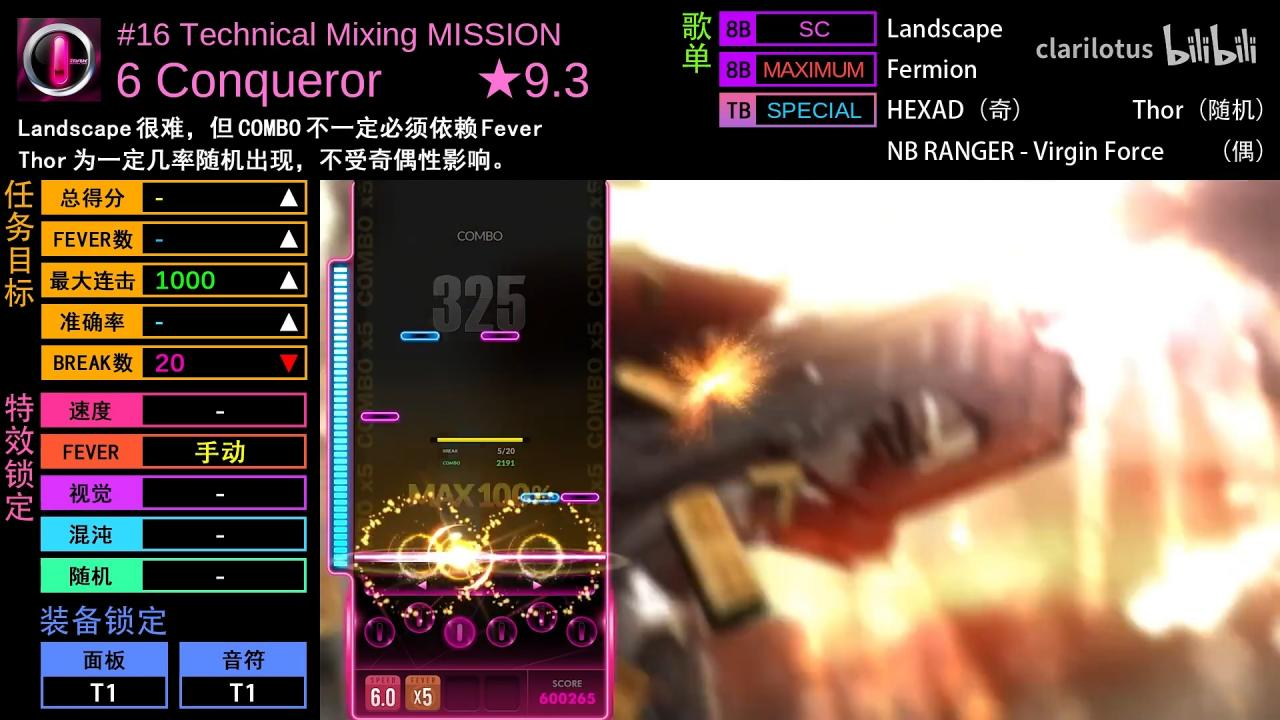note: (399, 330, 442, 342), (360, 411, 400, 423), (480, 330, 520, 341), (519, 492, 559, 503), (560, 492, 600, 503)
